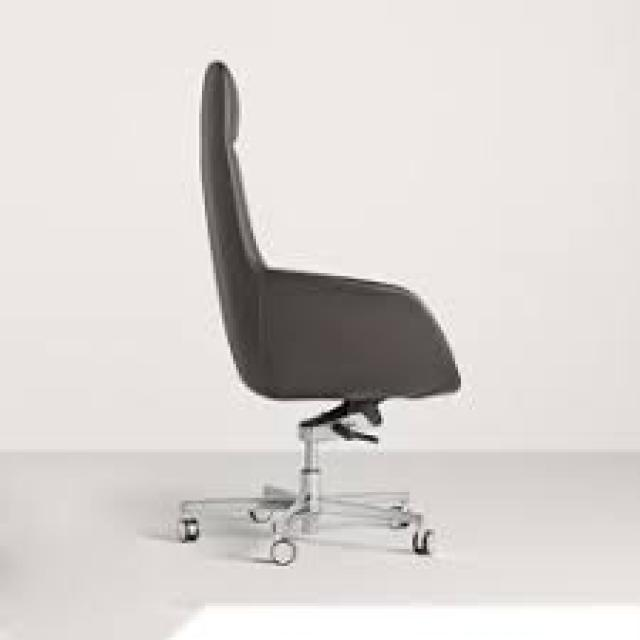chair: (116, 52, 488, 588)
